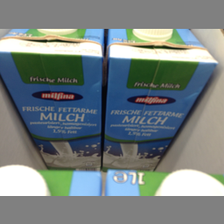milk: (106, 29, 218, 171), (1, 28, 103, 170)
